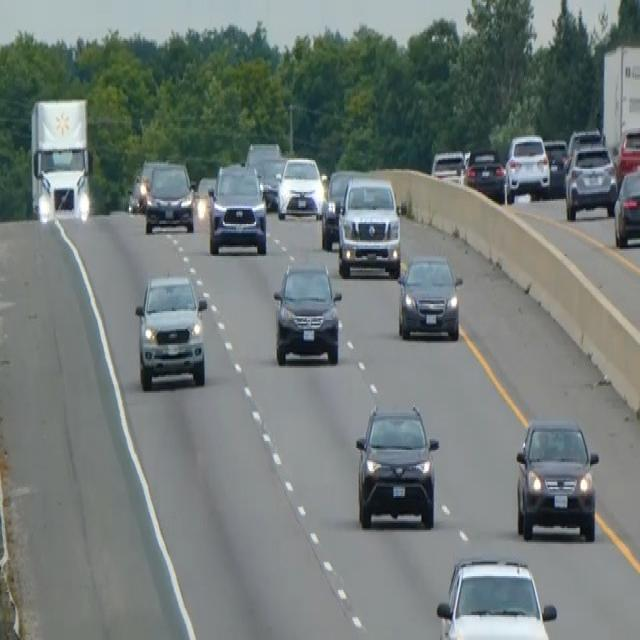car: (354, 400, 440, 530), (514, 414, 599, 542), (435, 555, 557, 638), (272, 260, 342, 366), (336, 175, 401, 278), (397, 251, 463, 341), (207, 160, 267, 254), (564, 140, 617, 220), (143, 158, 195, 233), (320, 167, 363, 249), (504, 132, 550, 199), (276, 154, 324, 218), (464, 146, 506, 201), (613, 164, 639, 247), (128, 156, 158, 214), (257, 154, 286, 210), (614, 123, 639, 185), (543, 137, 568, 194), (192, 174, 217, 226), (430, 148, 465, 183), (245, 139, 280, 174)
jeep: (133, 270, 208, 391)
lorry: (28, 94, 93, 224)
